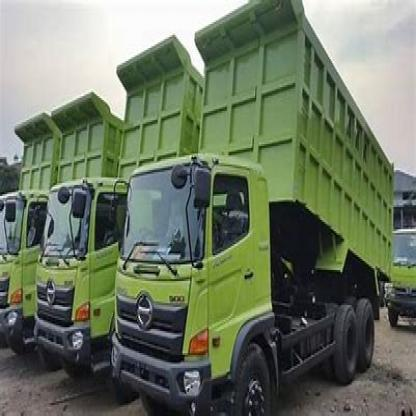dump_truck: (115, 146, 290, 407), (33, 161, 117, 377)
